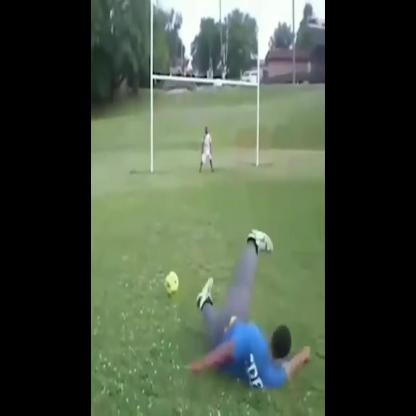Fall_Down: (182, 228, 313, 391)
